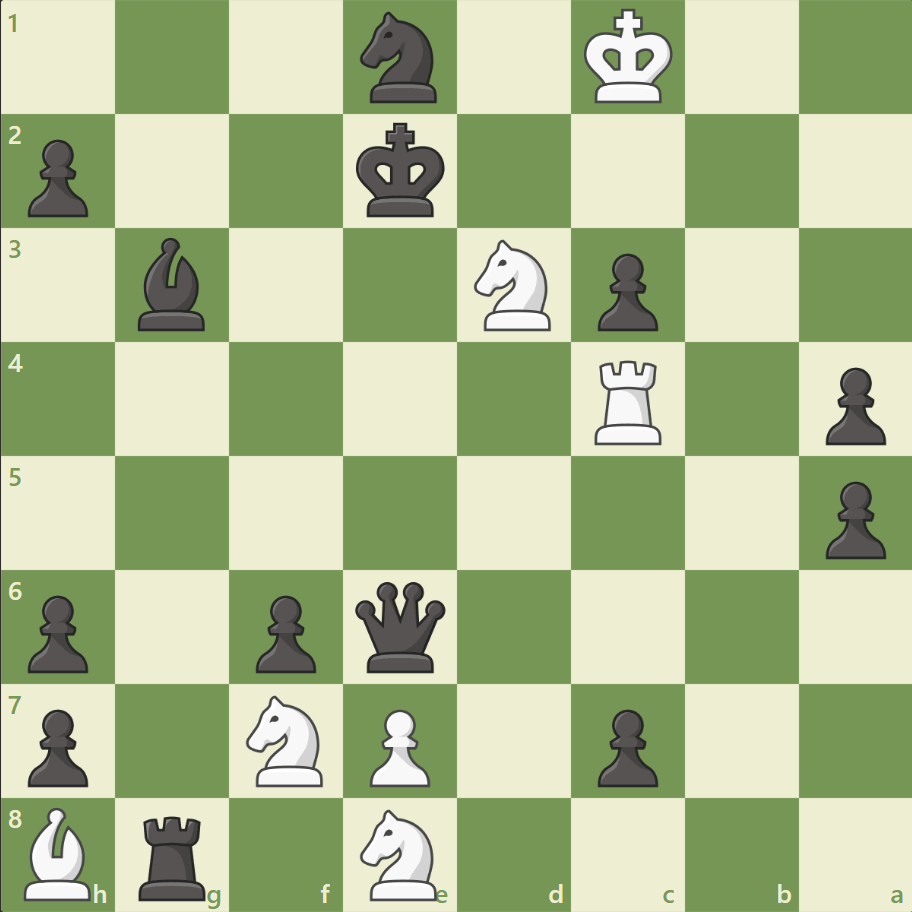B: (17, 801, 101, 904)
K: (579, 4, 679, 112)
N: (351, 802, 449, 904), (238, 688, 335, 791), (465, 234, 562, 337)
P: (361, 700, 435, 791)
R: (587, 352, 670, 449)
b: (131, 233, 215, 336)
k: (351, 117, 451, 225)
n: (351, 7, 449, 110)
p: (20, 700, 95, 791), (247, 586, 322, 677), (20, 586, 95, 677), (20, 132, 95, 223), (588, 700, 662, 791), (815, 473, 889, 564), (815, 359, 889, 450), (588, 246, 662, 337)
q: (351, 576, 450, 676)
r: (133, 806, 215, 904)
